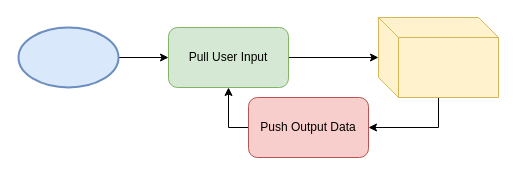
Image size: 516x175. Some labels were removed from this diagram. Here are the shapes that lost their labels. From the top down, the box of each, then its label:
(17, 26, 119, 88): Initialize various modules
(378, 16, 498, 98): Process the given User Input
